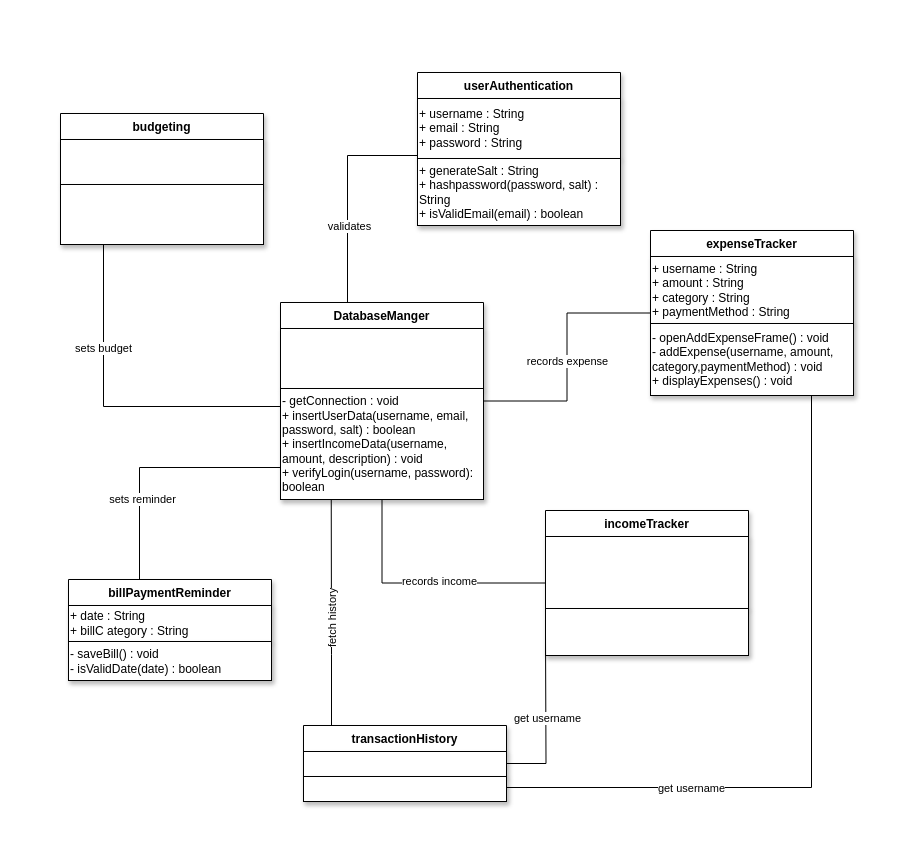
Image size: 900x863. Some labels were removed from this diagram. The shapes that lost their labels are listed below. From the top down, each one's centre as x and y in pixels, then its label:
At point (163, 163): "+ budgetCategory : String + budgetPercentage : double".
At point (163, 216): "+ getCategory() : String + setPercentage() : String + displayBudget() : String".
At point (383, 360): "+ url: String + db_user: String + db_password: String".
At point (647, 574): "+ username : String + amount : String + incomeSource: String".
At point (647, 633): "- getCurrentMonth() : String - submitIncome(): void".
At point (405, 765): "+ username : String".
At point (405, 790): "+ displayTransactionHistory: void".
